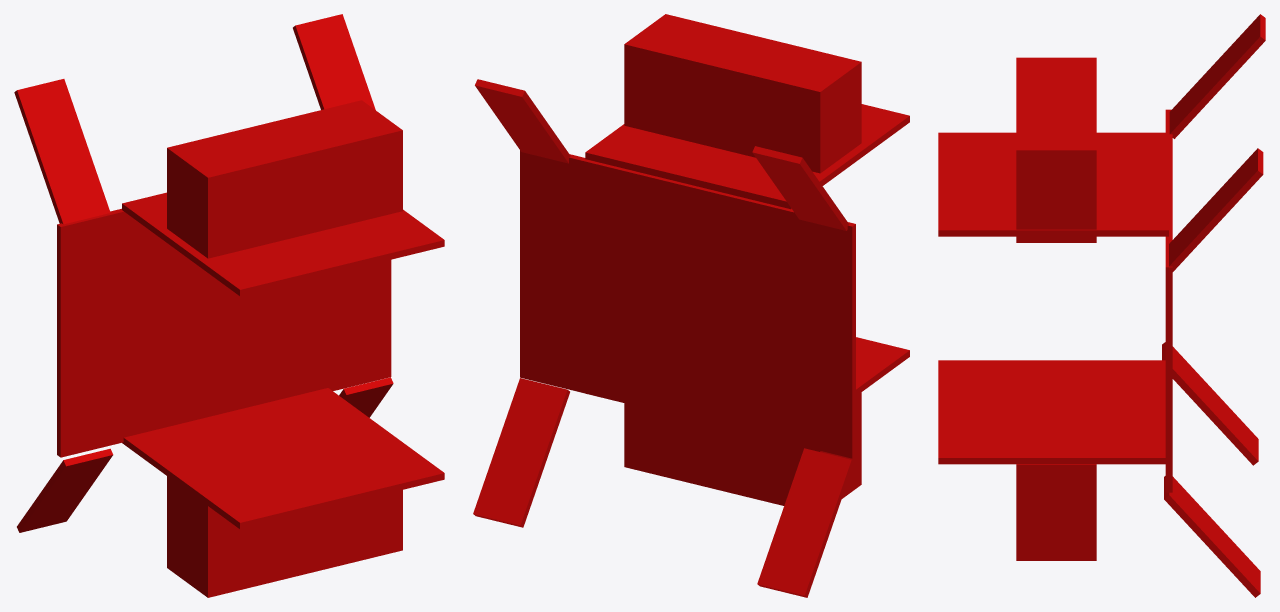
The model's file is arm_base_collision.dae.
The picture shows the model from 3 angles, left to right: view 1: azimuth 30°, elevation 25°; view 2: azimuth 150°, elevation 25°; view 3: azimuth 270°, elevation 25°; orthographic projection. The views are drawn at different scales.
Visible parts, largest first — view 1: arm_base_collision; view 2: arm_base_collision; view 3: arm_base_collision.
Boxes of the visible parts, x1=… form: arm_base_collision: x1=14, y1=14, x2=444, y2=597; arm_base_collision: x1=473, y1=14, x2=909, y2=597; arm_base_collision: x1=938, y1=14, x2=1265, y2=597.
Size of the model in its own units: 0.1055 by 0.1336 by 0.0923.
